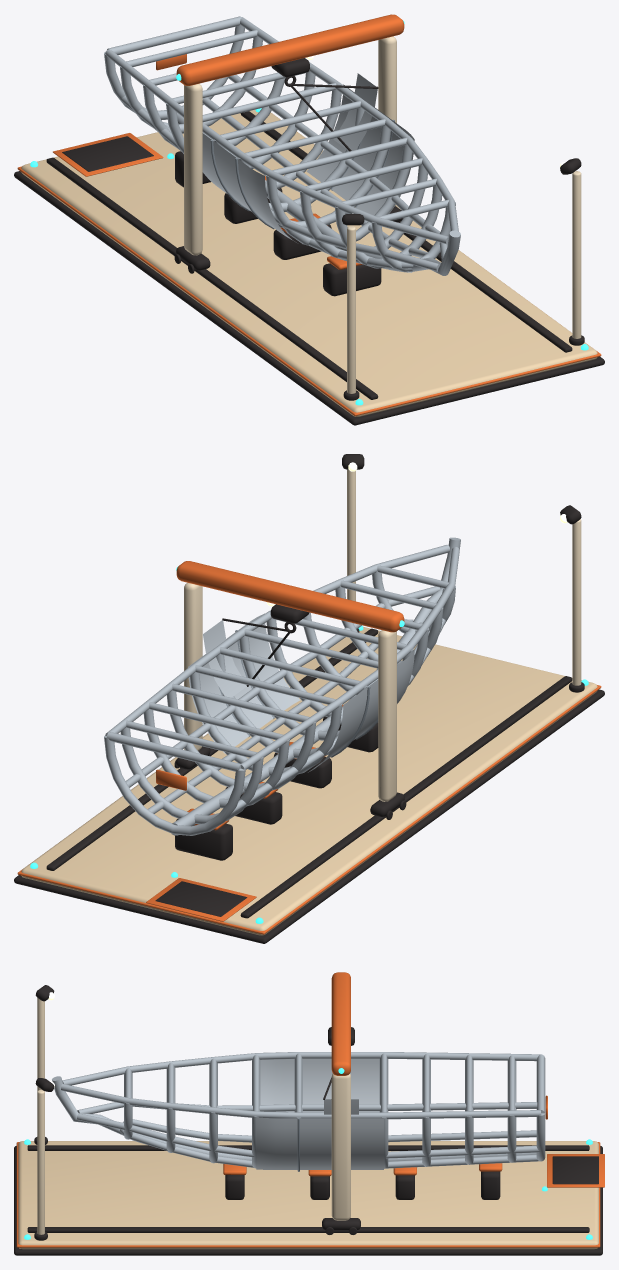
The model's file is hull-1.glb.
3 renders of one model, top to bottom at view 1: azimuth 30°, elevation 25°; view 2: azimuth 150°, elevation 25°; view 3: azimuth 270°, elevation 25°, orthographic. The views are drawn at different scales.
Visible parts, largest first — view 1: Cube.001, pipe, Cube, Cube.002, Cube.017, hung, pipe.030; view 2: Cube.001, pipe, Cube, Cube.002, Cube.017, hung; view 3: Cube.001, pipe, Cube, hung, Cube.002, Cube.017.
Boxes of the visible parts, left/top/right/bottom form: Cube.001: left=21, top=109, right=597, bottom=416; pipe: left=104, top=16, right=460, bottom=275; Cube: left=14, top=58, right=604, bottom=425; Cube.002: left=17, top=14, right=601, bottom=416; Cube.017: left=184, top=36, right=581, bottom=393; hung: left=202, top=73, right=414, bottom=242; pipe.030: left=210, top=119, right=394, bottom=229; Cube.001: left=21, top=626, right=597, bottom=935; pipe: left=104, top=537, right=460, bottom=835; Cube: left=14, top=454, right=604, bottom=943; Cube.002: left=17, top=561, right=601, bottom=934; Cube.017: left=184, top=469, right=581, bottom=801; hung: left=188, top=613, right=414, bottom=772; Cube.001: left=18, top=1141, right=598, bottom=1249; pipe: left=52, top=1052, right=545, bottom=1168; Cube: left=14, top=985, right=602, bottom=1255; hung: left=256, top=1058, right=383, bottom=1169; Cube.002: left=16, top=972, right=604, bottom=1247; Cube.017: left=37, top=998, right=350, bottom=1234.
Size of the model in its own units: 1.3 by 1.06 by 3.05.
